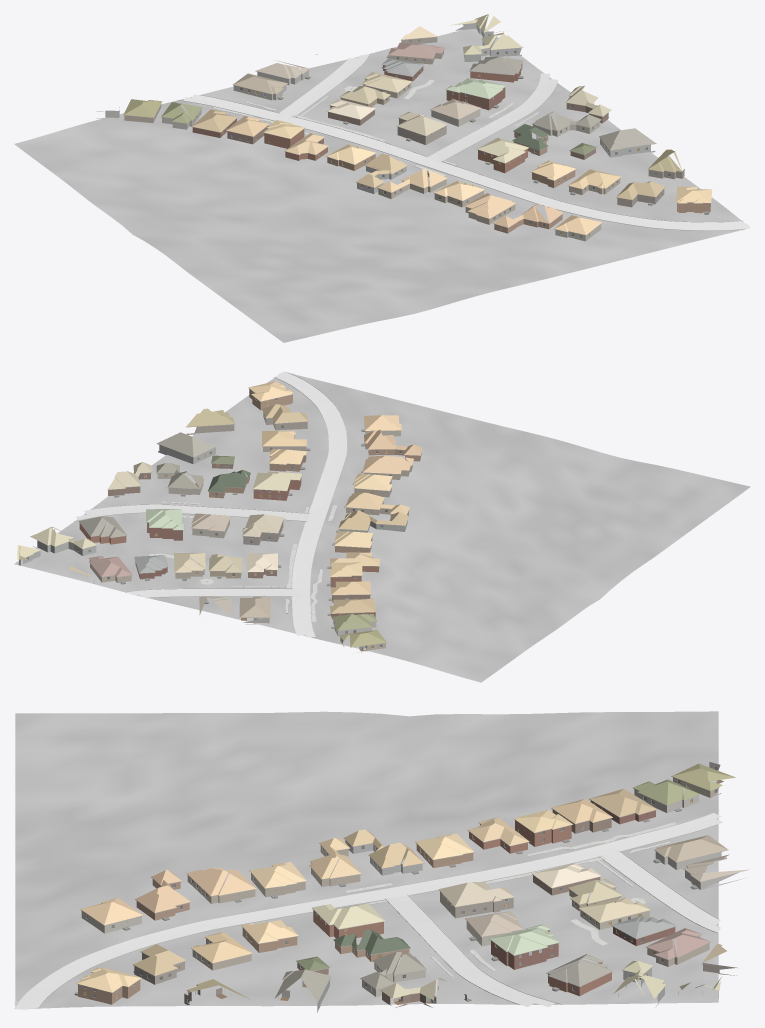
The picture shows the model from 3 angles, top to bottom: view 1: azimuth 30°, elevation 25°; view 2: azimuth 150°, elevation 25°; view 3: azimuth 270°, elevation 25°; orthographic projection. The views are drawn at different scales.
Parts seen in each view (by area): view 1: ground, roof, wall, concrete, detail, wall_stucco, curb, walk, wall_stone, glass; view 2: ground, roof, concrete, wall, wall_stucco, detail, curb, walk; view 3: ground, roof, concrete, wall, detail, curb, wall_stucco, walk, wall_stone, glass.
Part boxes in pixels (x1=…): ground: x1=14, y1=28, x2=747, y2=342; roof: x1=123, y1=14, x2=711, y2=234; wall: x1=124, y1=37, x2=710, y2=233; concrete: x1=183, y1=54, x2=750, y2=230; detail: x1=97, y1=23, x2=710, y2=238; wall_stucco: x1=357, y1=23, x2=655, y2=241; curb: x1=178, y1=54, x2=745, y2=230; walk: x1=213, y1=79, x2=743, y2=230; wall_stone: x1=96, y1=70, x2=308, y2=129; glass: x1=154, y1=27, x2=684, y2=237; ground: x1=14, y1=375, x2=750, y2=682; roof: x1=17, y1=381, x2=422, y2=647; concrete: x1=75, y1=371, x2=346, y2=637; wall: x1=79, y1=389, x2=421, y2=652; wall_stucco: x1=18, y1=430, x2=407, y2=578; detail: x1=25, y1=387, x2=420, y2=650; curb: x1=73, y1=372, x2=347, y2=638; walk: x1=149, y1=373, x2=337, y2=622; ground: x1=15, y1=711, x2=718, y2=1008; roof: x1=77, y1=763, x2=748, y2=1002; concrete: x1=14, y1=813, x2=723, y2=1009; wall: x1=78, y1=777, x2=737, y2=1007; detail: x1=74, y1=766, x2=737, y2=1003; curb: x1=14, y1=810, x2=719, y2=1009; wall_stucco: x1=81, y1=840, x2=718, y2=1012; walk: x1=14, y1=822, x2=677, y2=1004; wall_stone: x1=634, y1=762, x2=745, y2=889; glass: x1=83, y1=766, x2=717, y2=1002.
Size of the model in its own units: 256 by 13.21 by 262.
